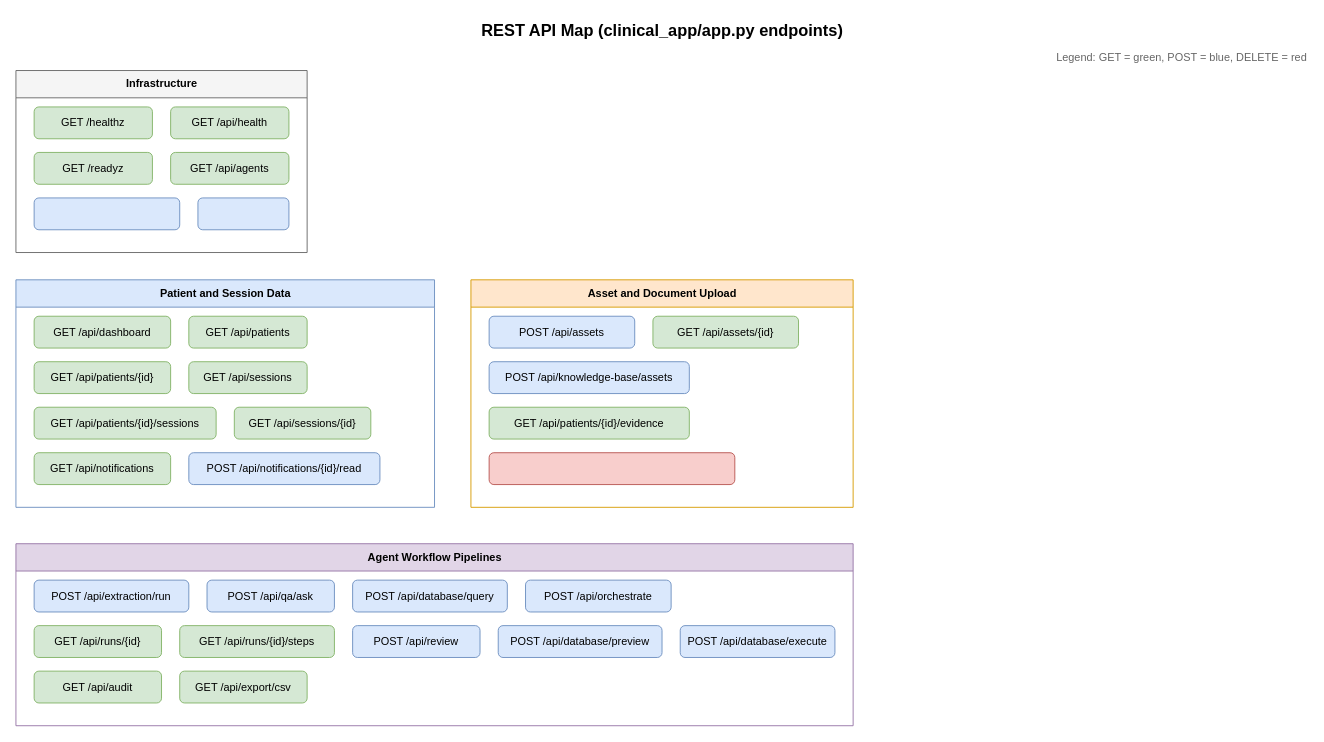
The diagram is 1324 pixels wide and 742 high, and some of its shapes have lost their labels. The shapes that lost their labels are listed below. From the top down, each one's centre as x and y in pixels, then its label:
At [106,213]: "POST /api/demo/session".
At [243,213]: "POST /api/demo/reset".
At [611,468]: "DELETE /api/patients/{id}/evidence/{eid}".
